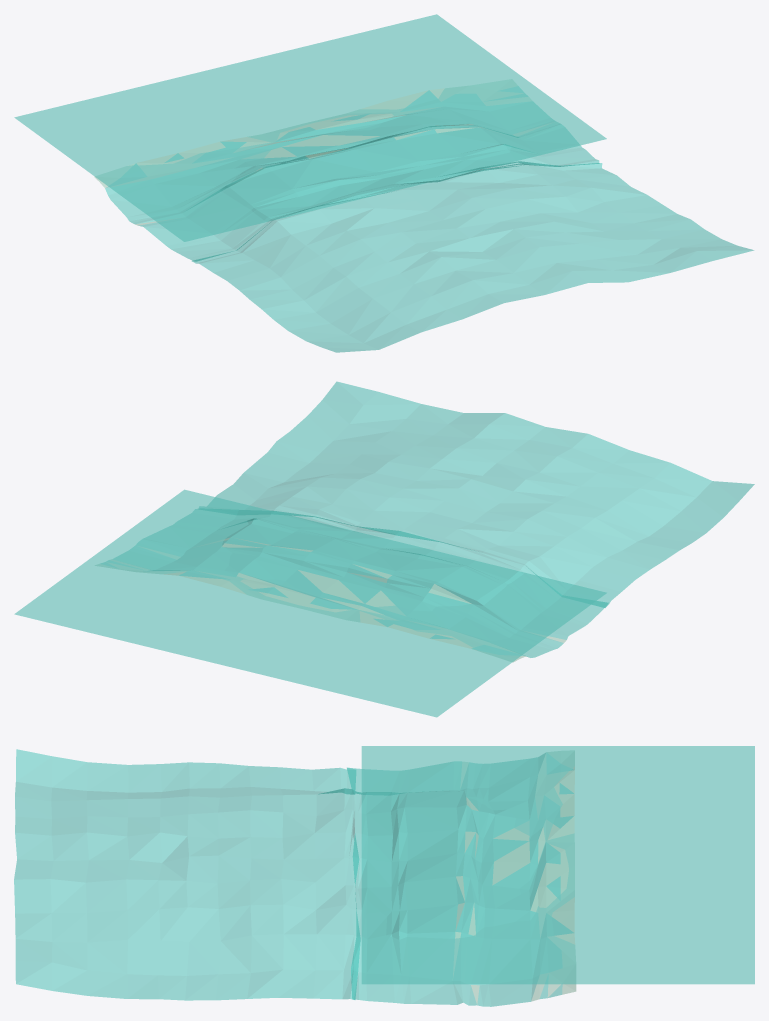
Rendered from Deniz+Tsunami(updated).fbx.
3 views of the same model, one above another, from view 1: azimuth 30°, elevation 25°; view 2: azimuth 150°, elevation 25°; view 3: azimuth 270°, elevation 25° (orthographic). The views are drawn at different scales.
Parts seen in each view (by area): view 1: TSUNAMI, map_sea; view 2: TSUNAMI, map_sea; view 3: TSUNAMI, map_sea.
Boxes of the visible parts, x1,y1,x2,y2 form: TSUNAMI: (94,79,753,352); map_sea: (14,14,606,241); TSUNAMI: (95,381,754,662); map_sea: (14,489,606,717); TSUNAMI: (14,749,576,1006); map_sea: (361,746,754,984).
Bounding box in the file's own units: 3978 × 299 × 5193.
